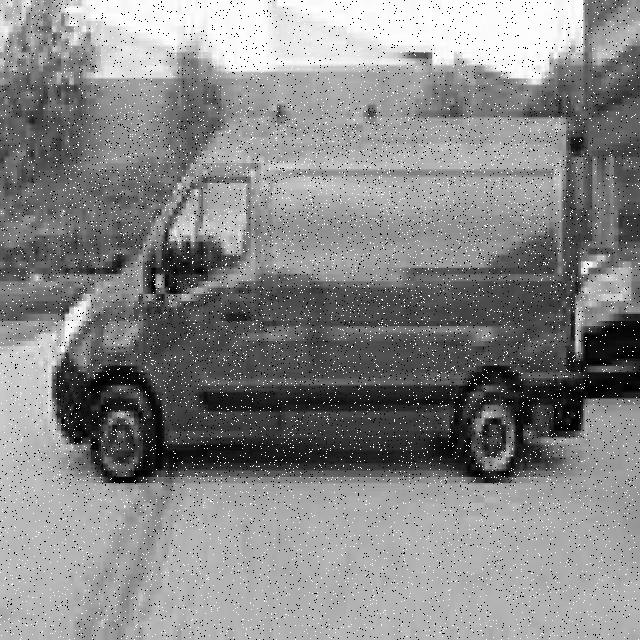Van: (52, 116, 586, 483)
